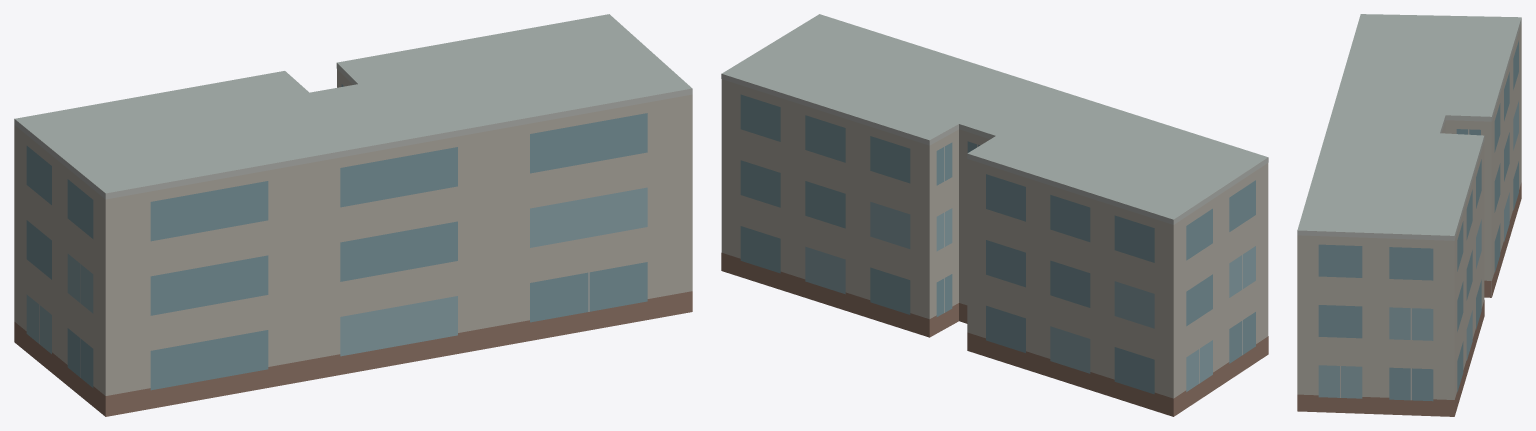
The model's file is survey-upis-32565304.glb.
3 renders of one model, left to right at view 1: azimuth 30°, elevation 25°; view 2: azimuth 150°, elevation 25°; view 3: azimuth 270°, elevation 25°, orthographic. The views are drawn at different scales.
Parts seen in each view (by area): view 1: survey-upis-32565304.tmp; view 2: survey-upis-32565304.tmp; view 3: survey-upis-32565304.tmp.
Part boxes in pixels (x1,y1,x2,y2): survey-upis-32565304.tmp: (14, 14, 692, 416); survey-upis-32565304.tmp: (721, 14, 1268, 416); survey-upis-32565304.tmp: (1297, 14, 1521, 416).
Size of the model in its own units: 23.68 by 9 by 10.12.
